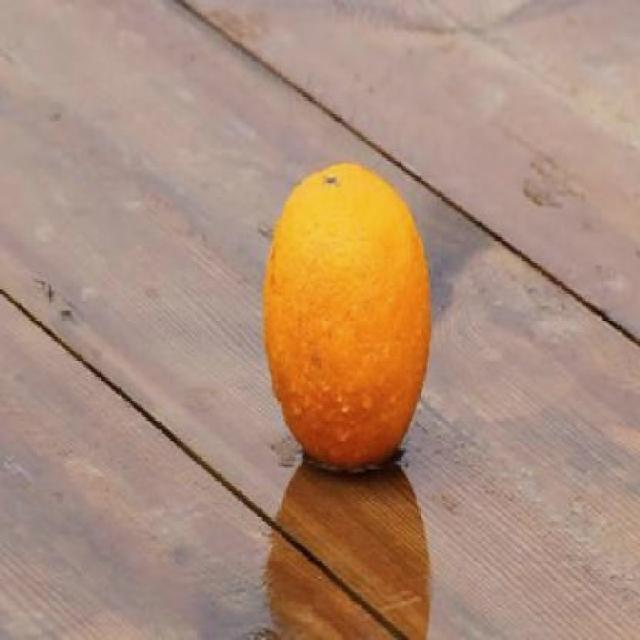Jeruk Sudah Matang: (264, 160, 428, 472)
